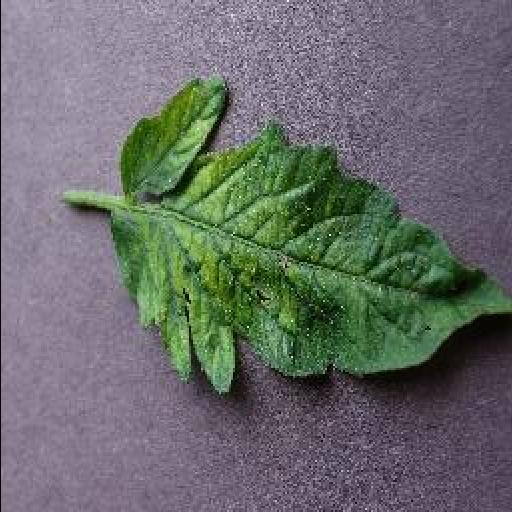disease_tomato: (108, 76, 512, 396)
